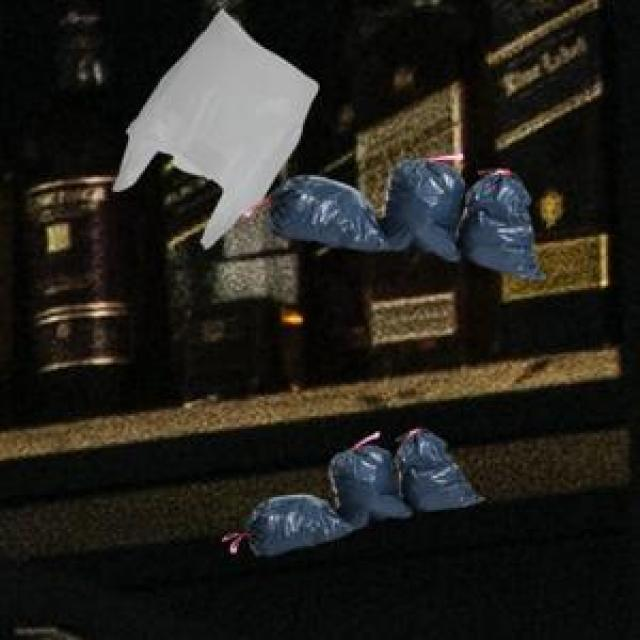miscellaneous trash: (265, 156, 540, 275), (241, 425, 478, 553)
